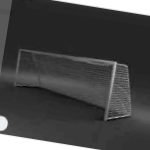goals: (12, 47, 135, 123)
